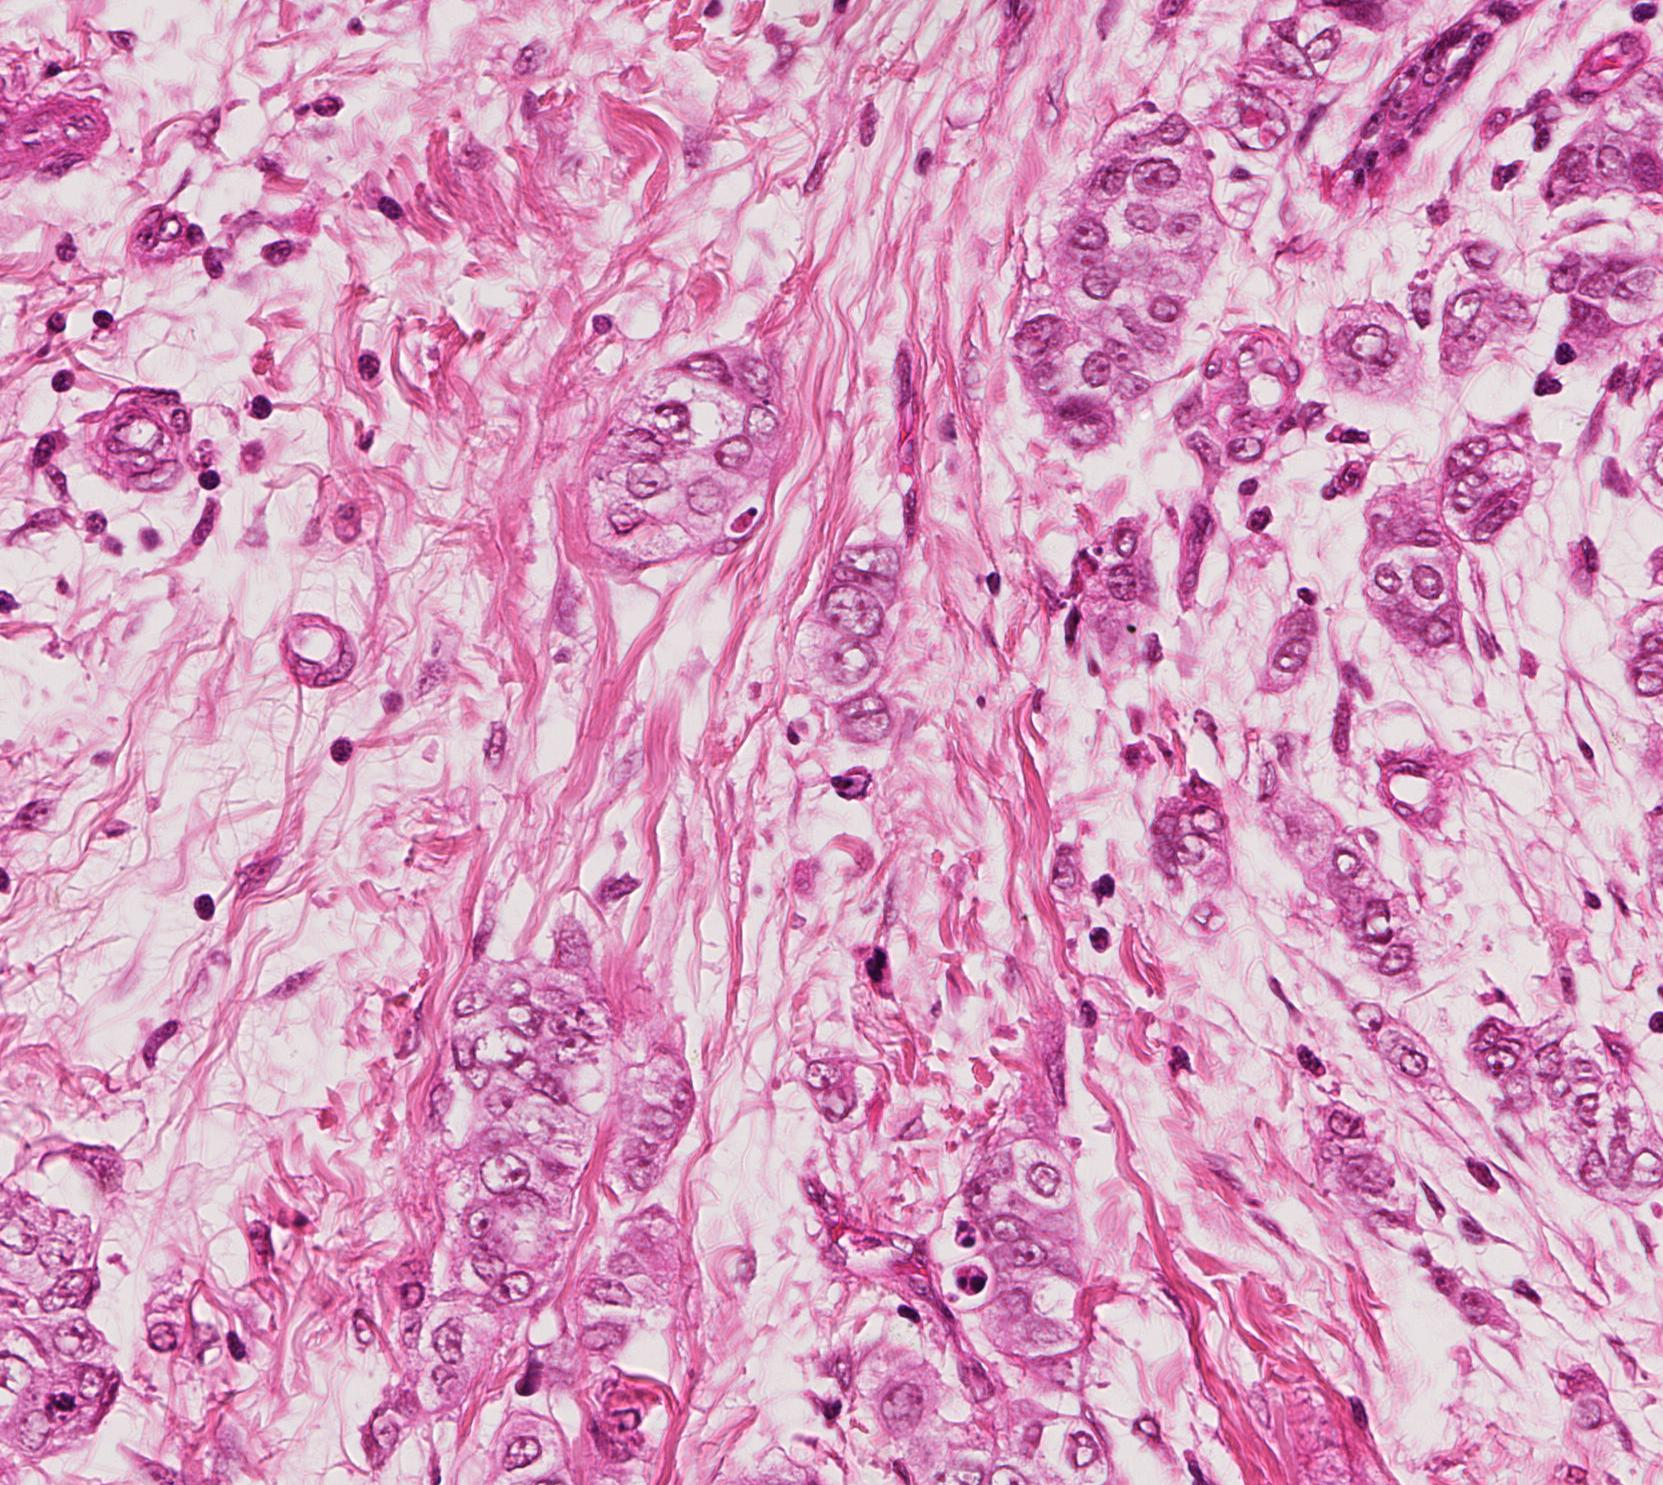mitosis: (32, 1372, 92, 1432)
